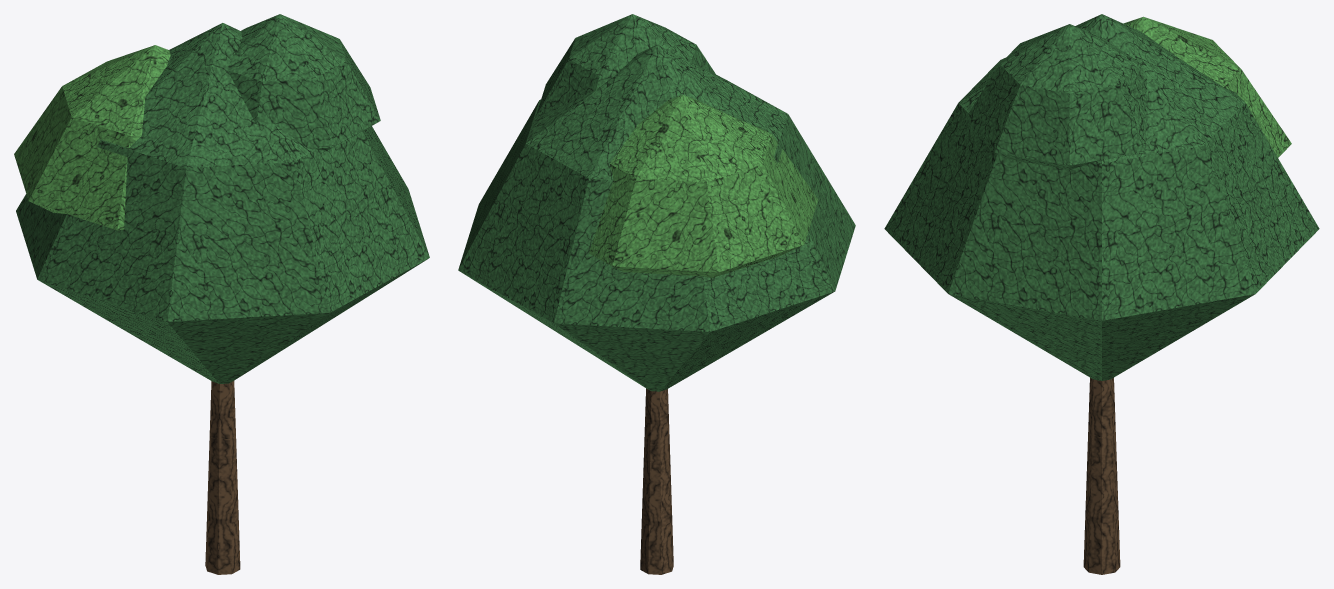
Rendered from hill_tree_b.fbx.
3 renders of one model, left to right at view 1: azimuth 30°, elevation 25°; view 2: azimuth 150°, elevation 25°; view 3: azimuth 270°, elevation 25°, orthographic. The views are drawn at different scales.
Parts seen in each view (by area): view 1: hill_tree_b; view 2: hill_tree_b; view 3: hill_tree_b.
Boxes of the visible parts, x1=… form: hill_tree_b: x1=14, y1=14, x2=429, y2=574; hill_tree_b: x1=458, y1=14, x2=855, y2=574; hill_tree_b: x1=884, y1=14, x2=1319, y2=574.
Bounding box in the file's own units: 378 × 540 × 378.
